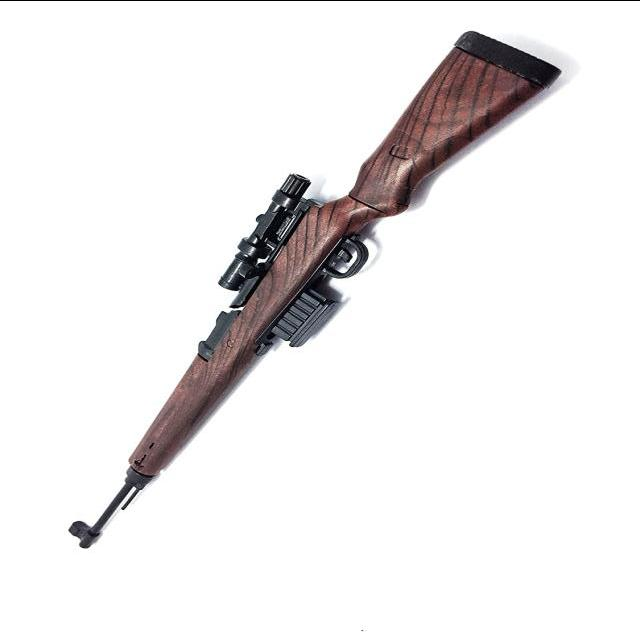scope: (212, 163, 311, 293)
sniper rifle: (60, 29, 569, 555)
